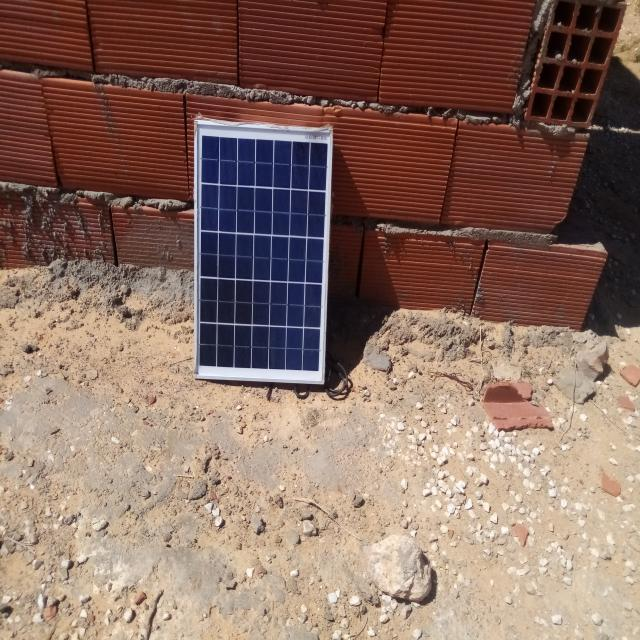Normal Solar Panel: (195, 122, 332, 383)
